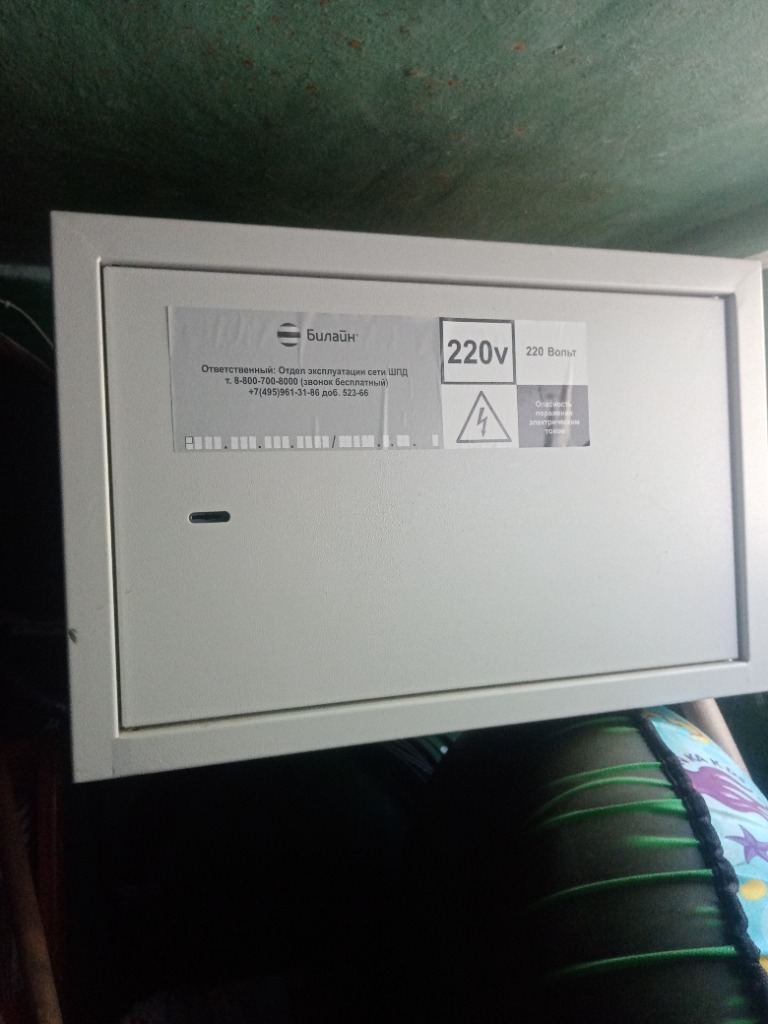shta-7m: (45, 205, 766, 788)
